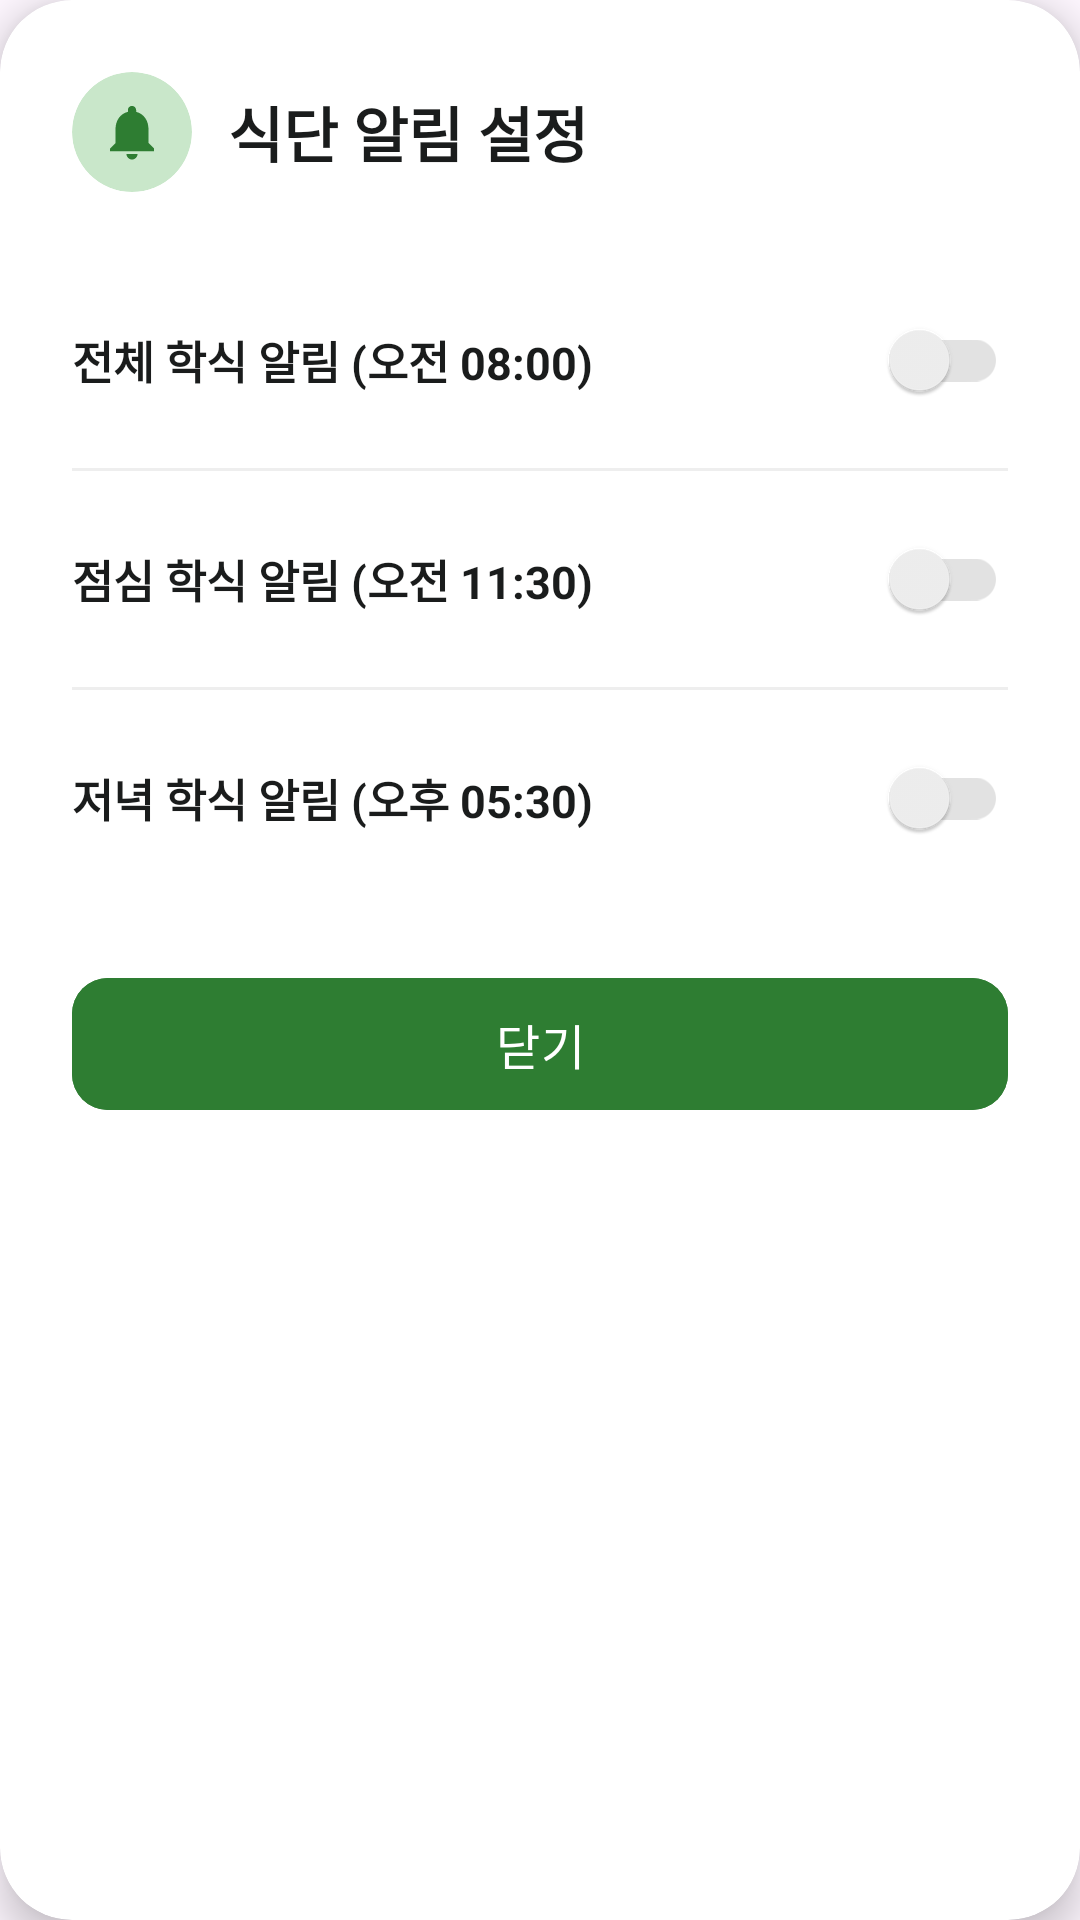

Where to tap for icons on this 1080*1920 app screen, as (x=x, y=y):
notifications: (x=132, y=133)
